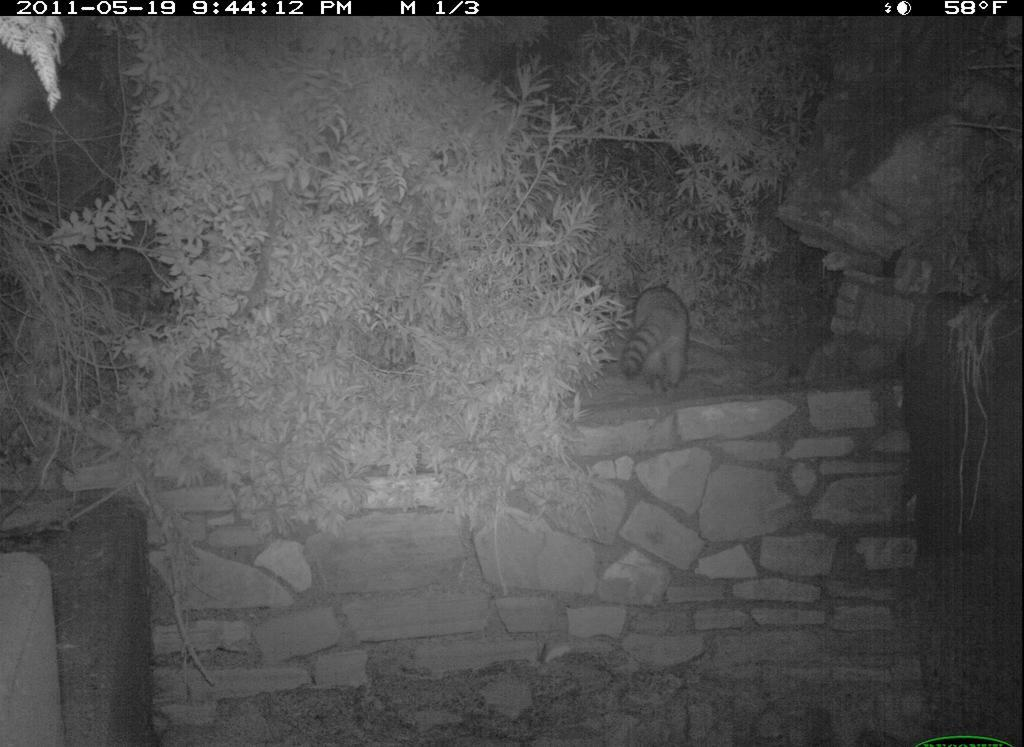raccoon: (614, 272, 699, 401)
